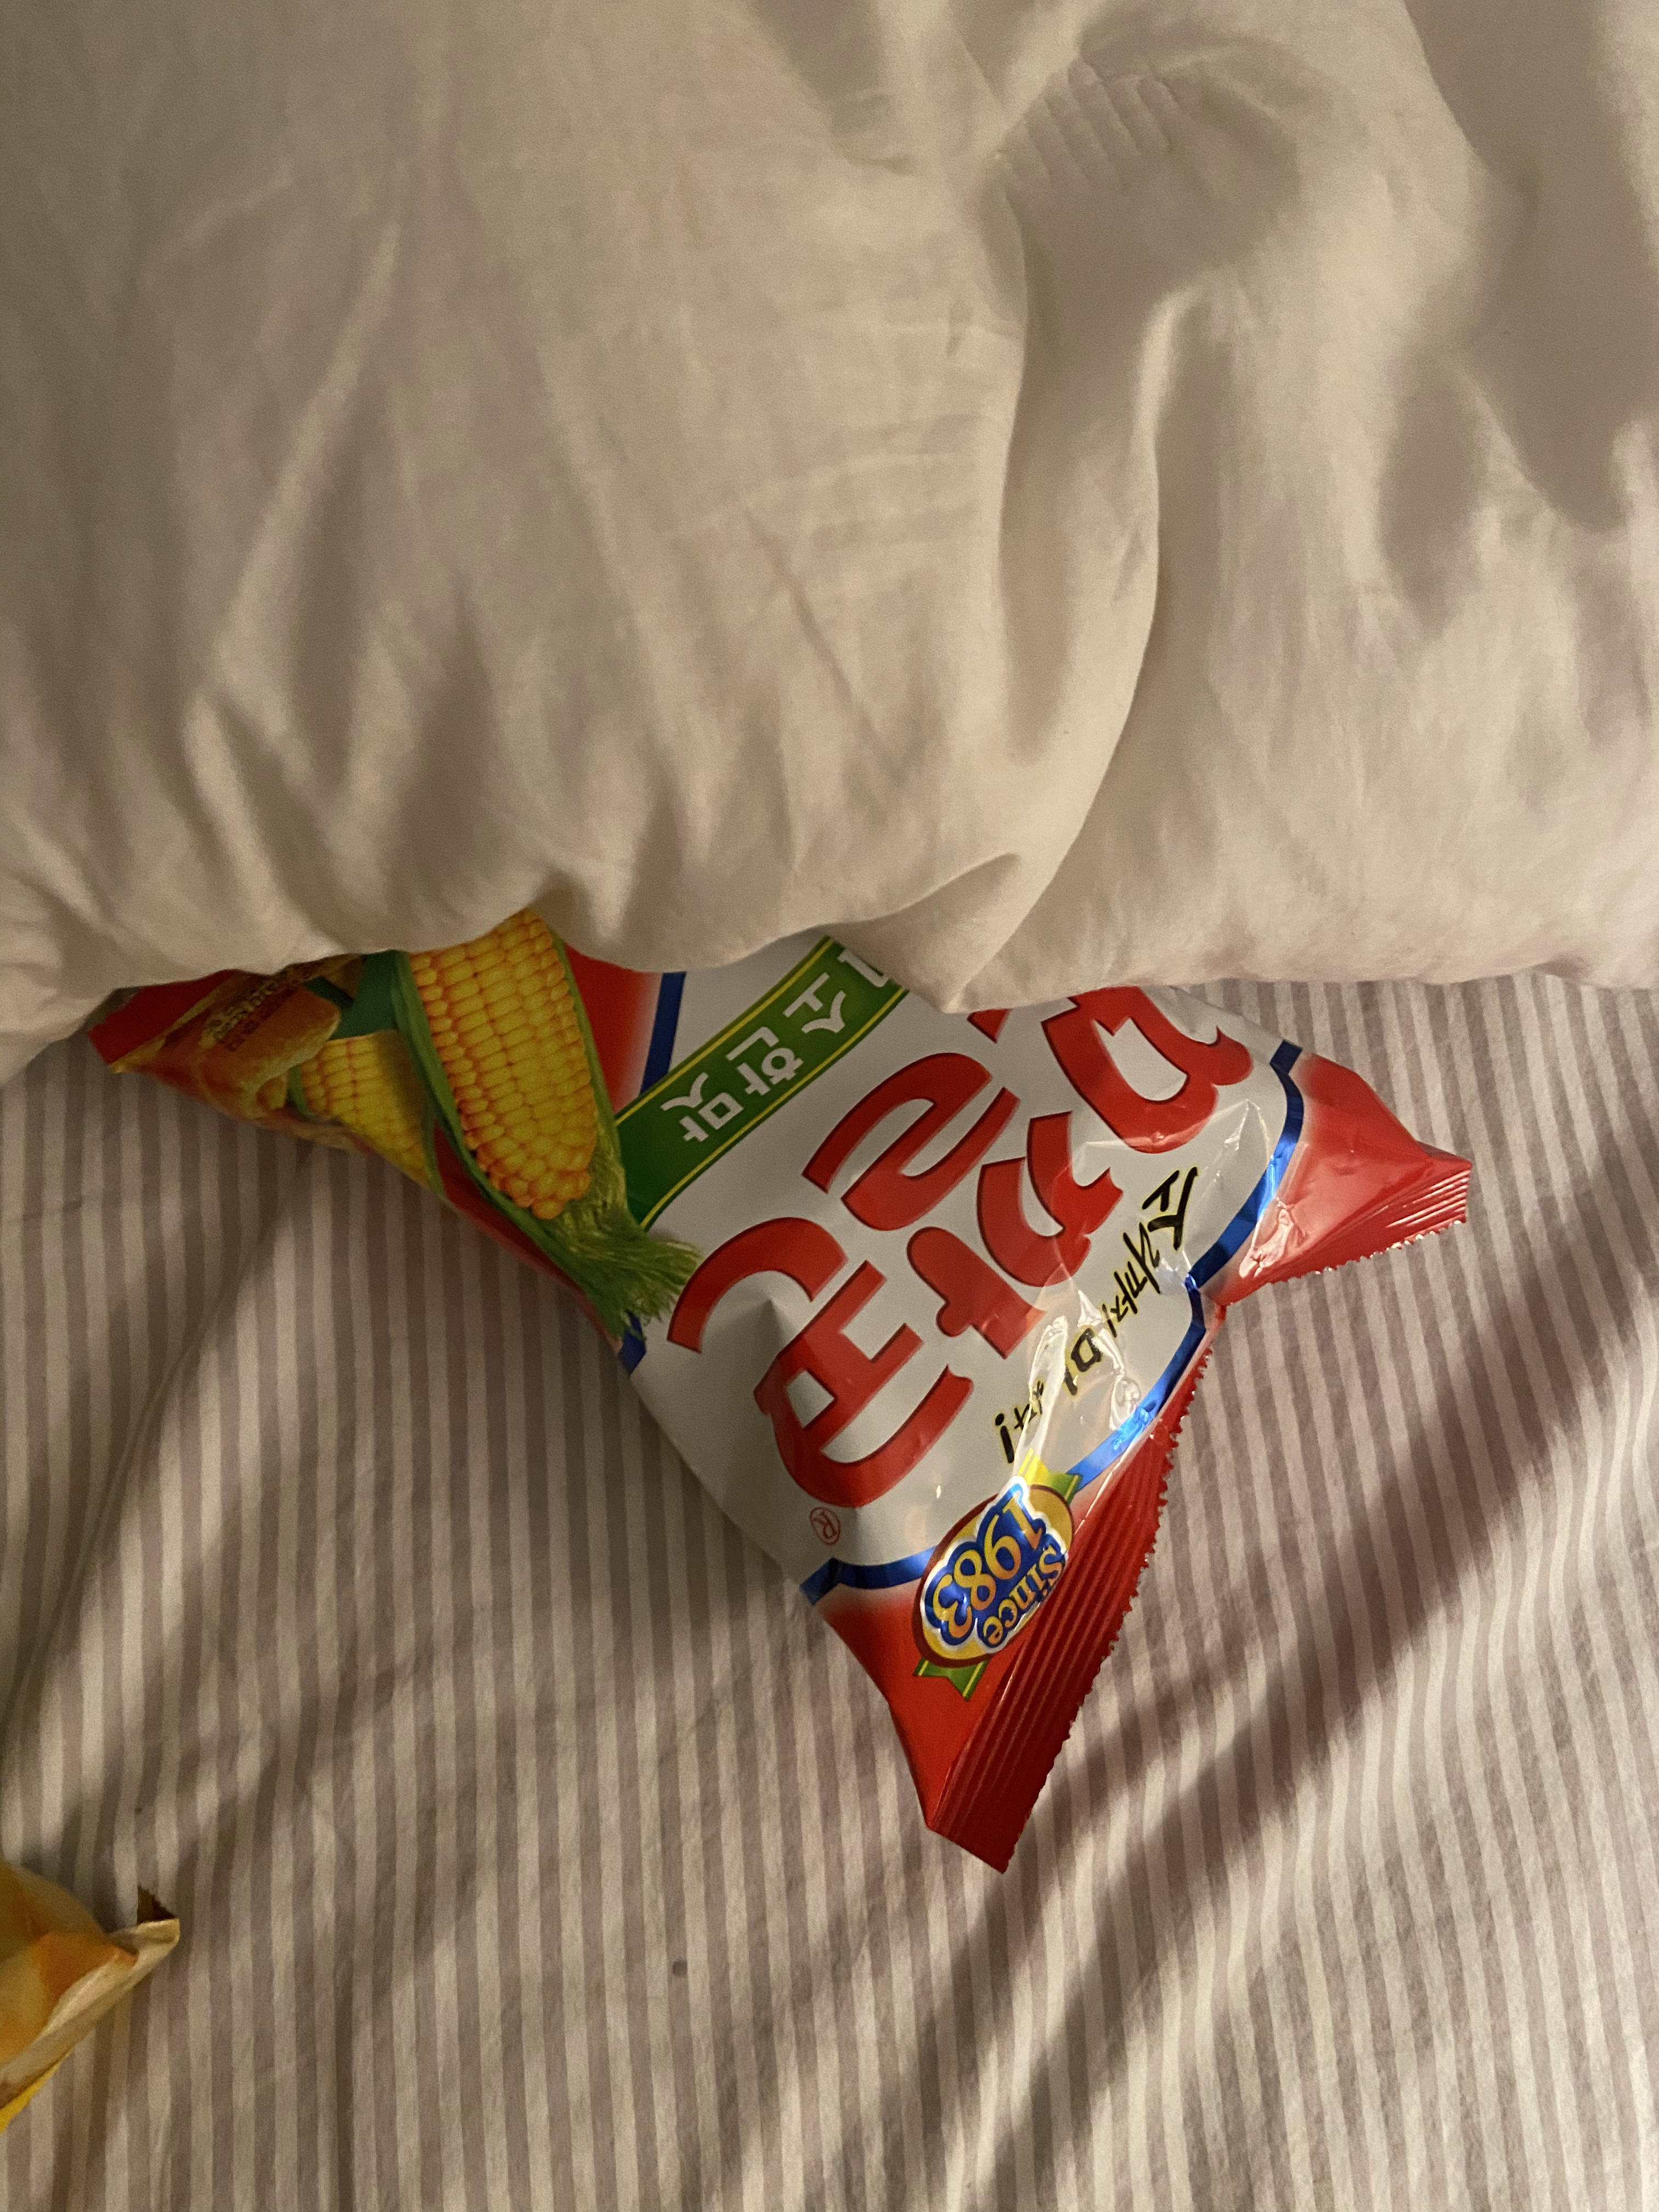ggoggalcon: (0, 853, 1481, 1883)
